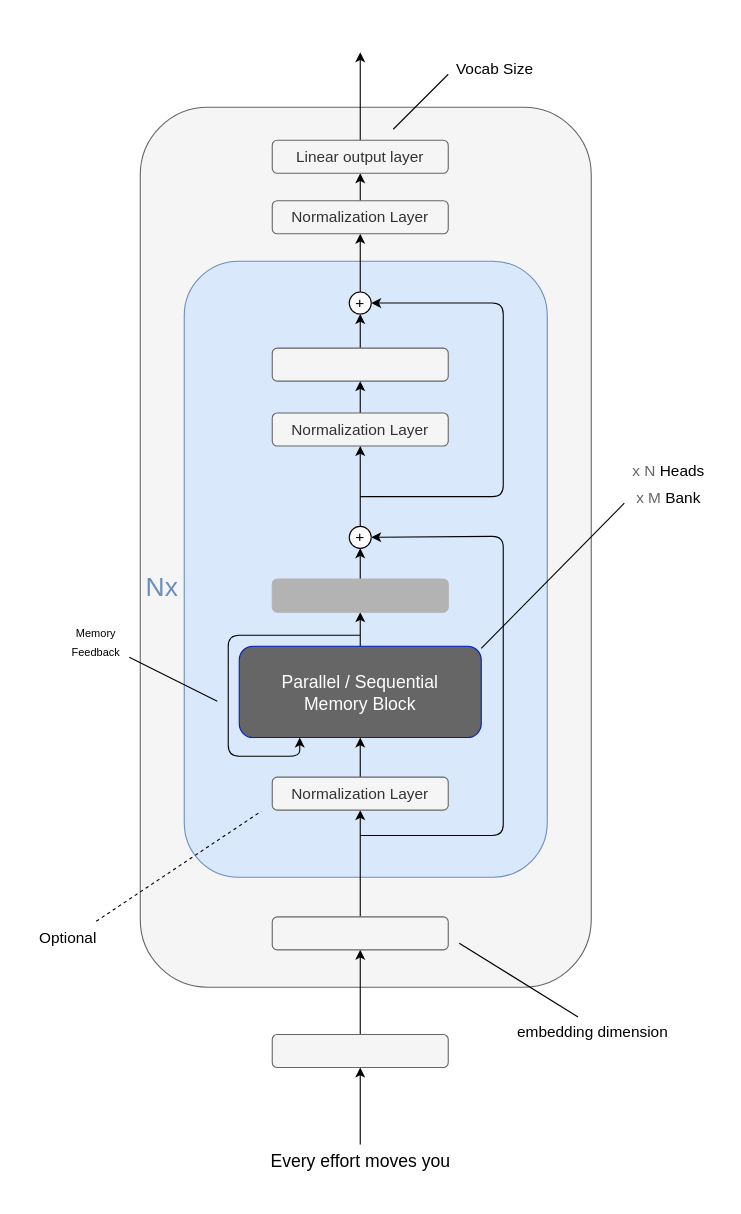
Image size: 741x1214. Some labels were removed from this diagram. Each missing label, with the box of its shape:
FeedForward: (271, 347, 448, 381)
Single Vector Attention: (271, 578, 448, 612)
Token embedding layer: (271, 916, 448, 950)
Tokenized text: (271, 1033, 448, 1068)
